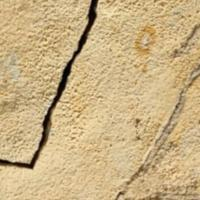crack: (2, 0, 97, 174)
